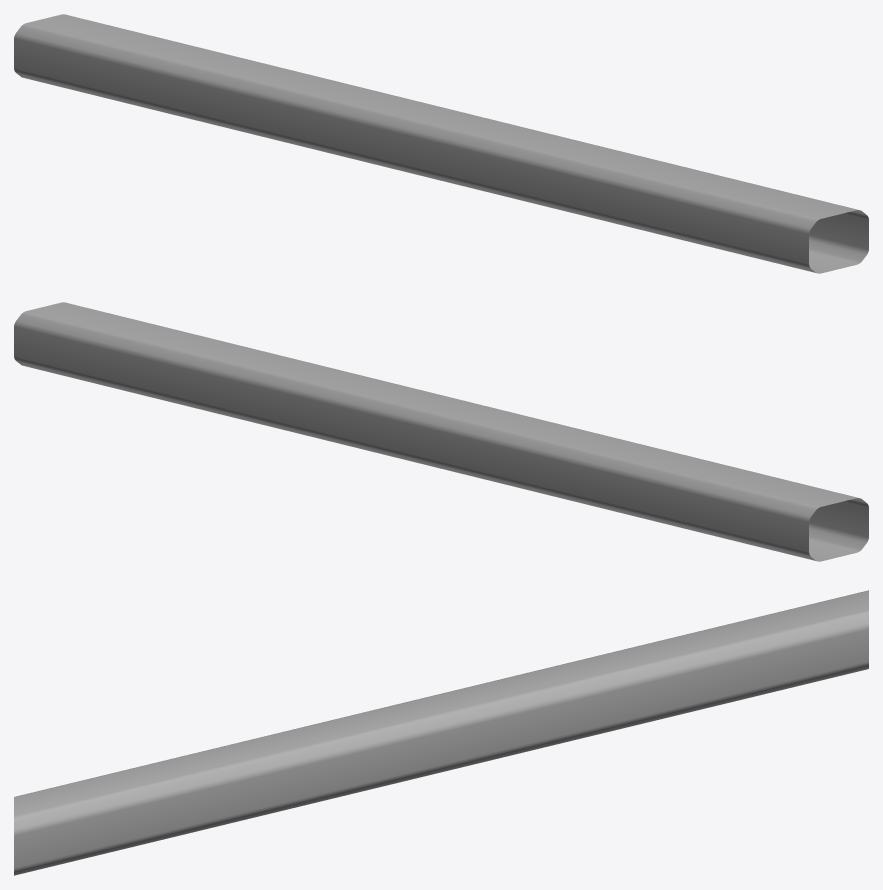
Rendered from linkT.fbx.
3 renders of one model, top to bottom at view 1: azimuth 30°, elevation 25°; view 2: azimuth 210°, elevation 25°; view 3: azimuth 270°, elevation 25°, orthographic. The views are drawn at different scales.
Parts seen in each view (by area): view 1: tunul.022; view 2: tunul.022; view 3: tunul.022.
Boxes of the visible parts, x1,y1,x2,y2 form: tunul.022: (14, 14, 868, 273); tunul.022: (14, 302, 868, 561); tunul.022: (14, 590, 868, 875).
Size of the model in its own units: 995 by 114 by 1510.
Materials: 1 (1 with a texture image).
